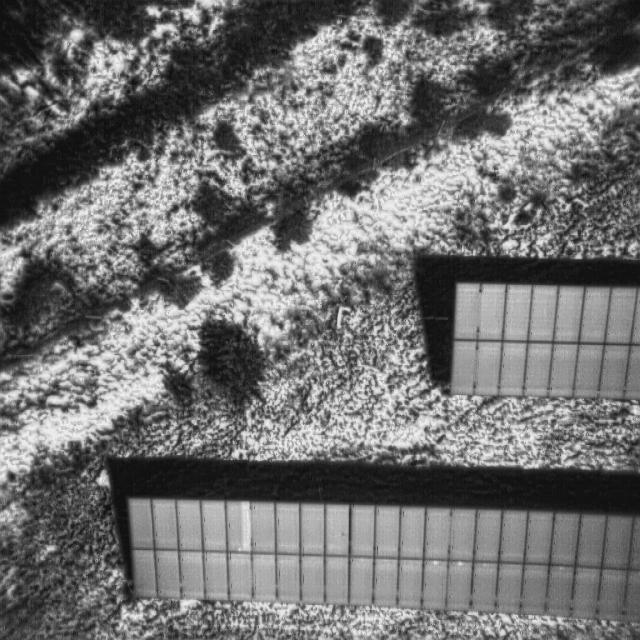diode: (240, 500, 252, 551)
